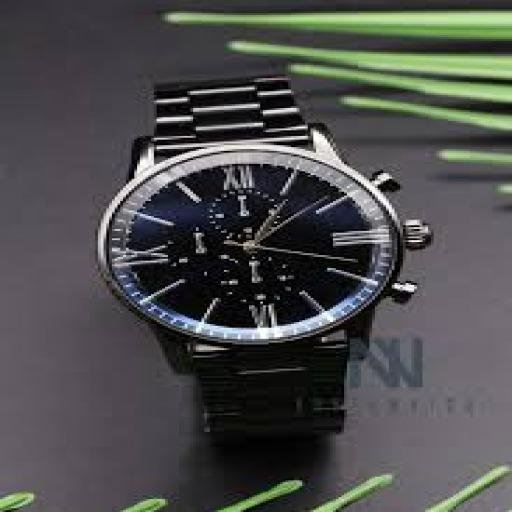KolSaati: (69, 34, 408, 451)
